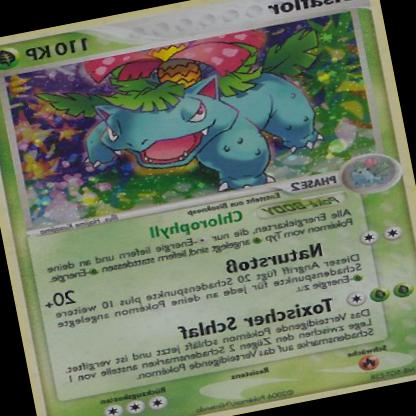Venusaur: (27, 22, 336, 224)
